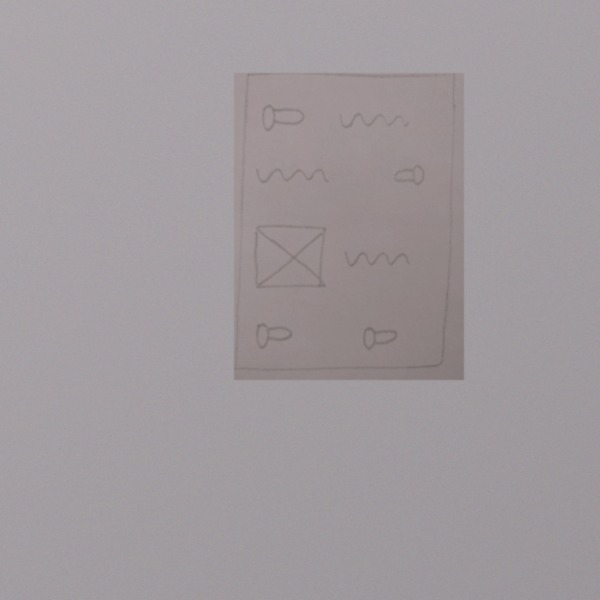image: (248, 218, 330, 295)
switch: (386, 156, 433, 191), (250, 319, 297, 354), (260, 101, 306, 136), (354, 321, 400, 356)
text: (333, 104, 412, 135), (339, 245, 414, 274), (254, 161, 329, 189)
